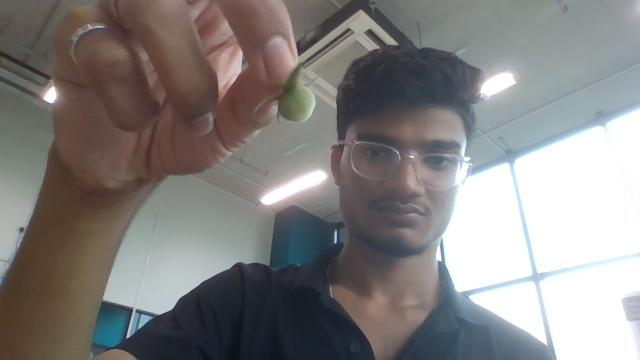Fruit Maturation: (277, 83, 316, 125)
